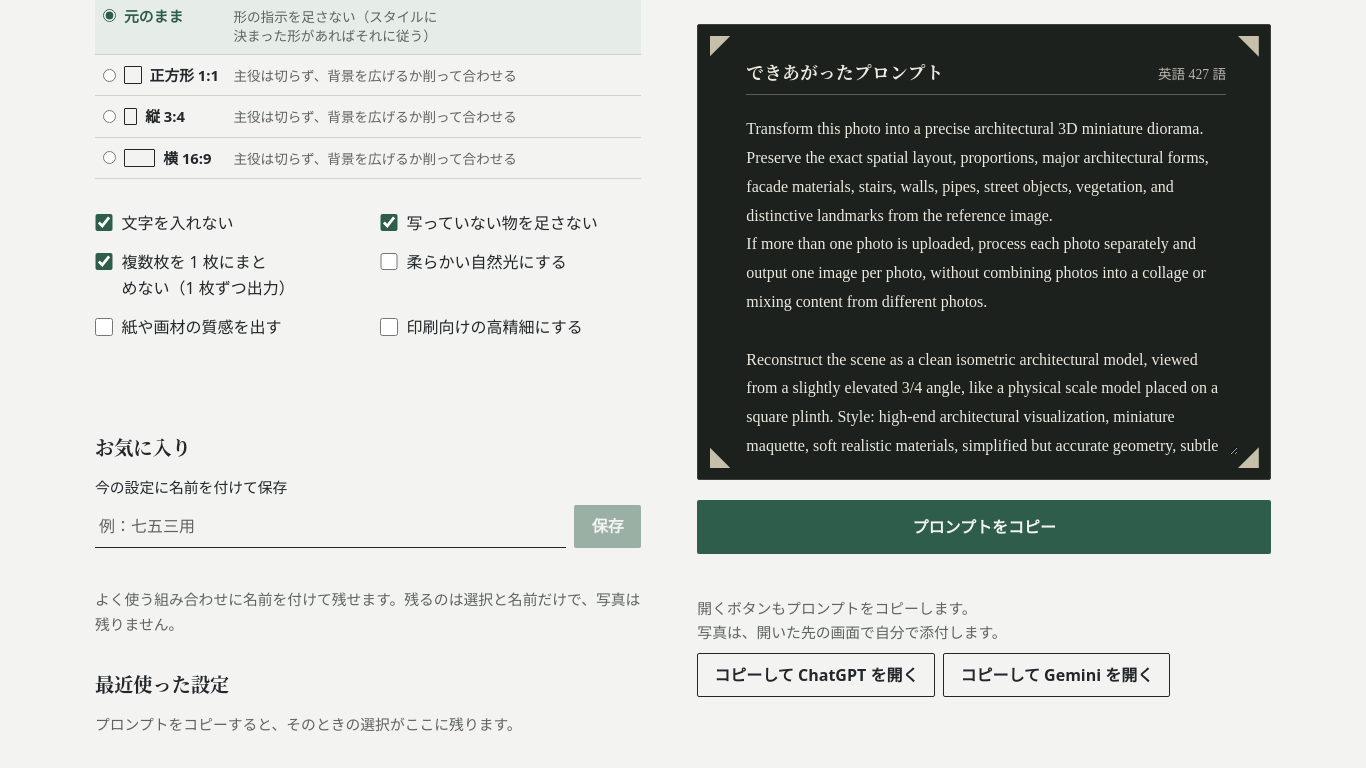
Test: お気に入り（logs/decisions.md 2026-10-03「名前を付けて保存」） › 同じ名前で保存すると、今の設定で上書きしたと知らせる
(page scrolled)
Type "いつもの" into the field labelled "今の設定に名前を付けて保存" at (331, 526), box [95,505,566,548]
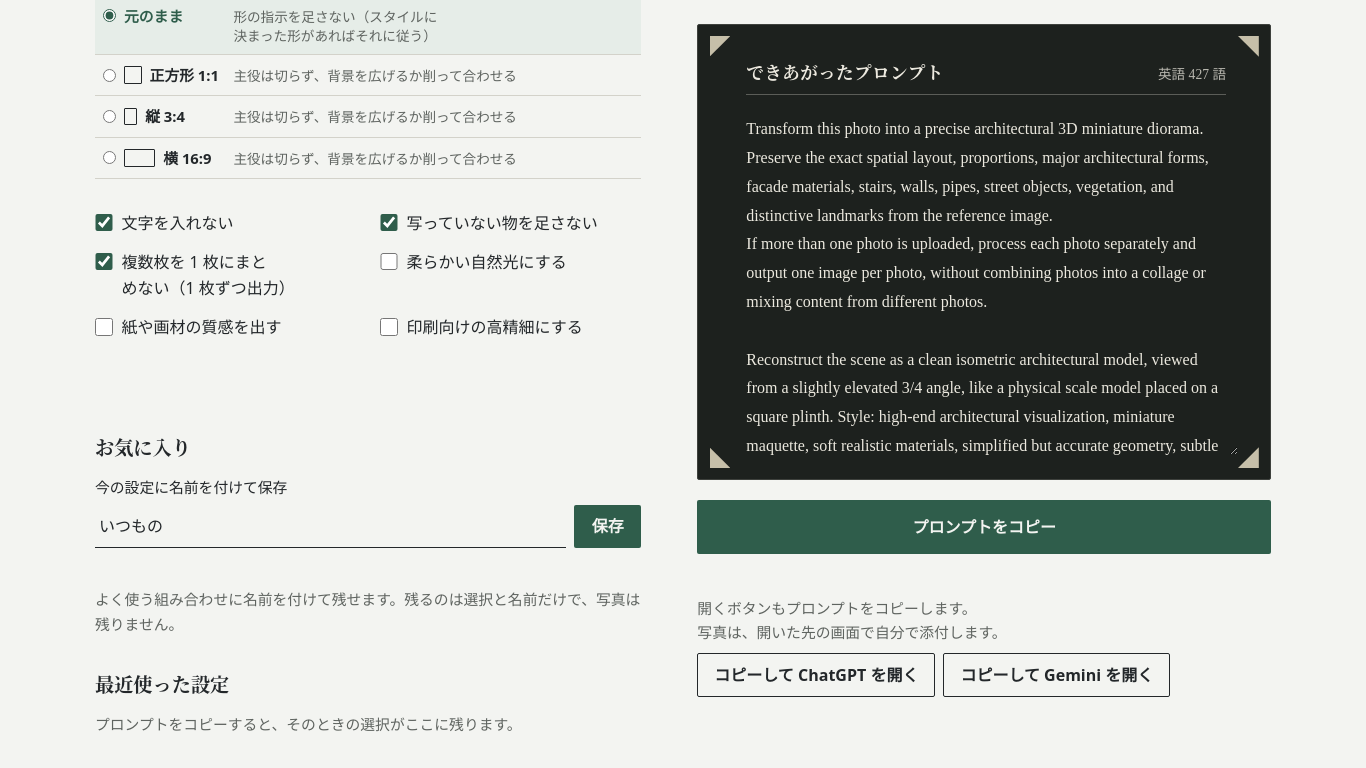
Click the button "保存" at (608, 526), box [574,505,641,548]
(page scrolled)
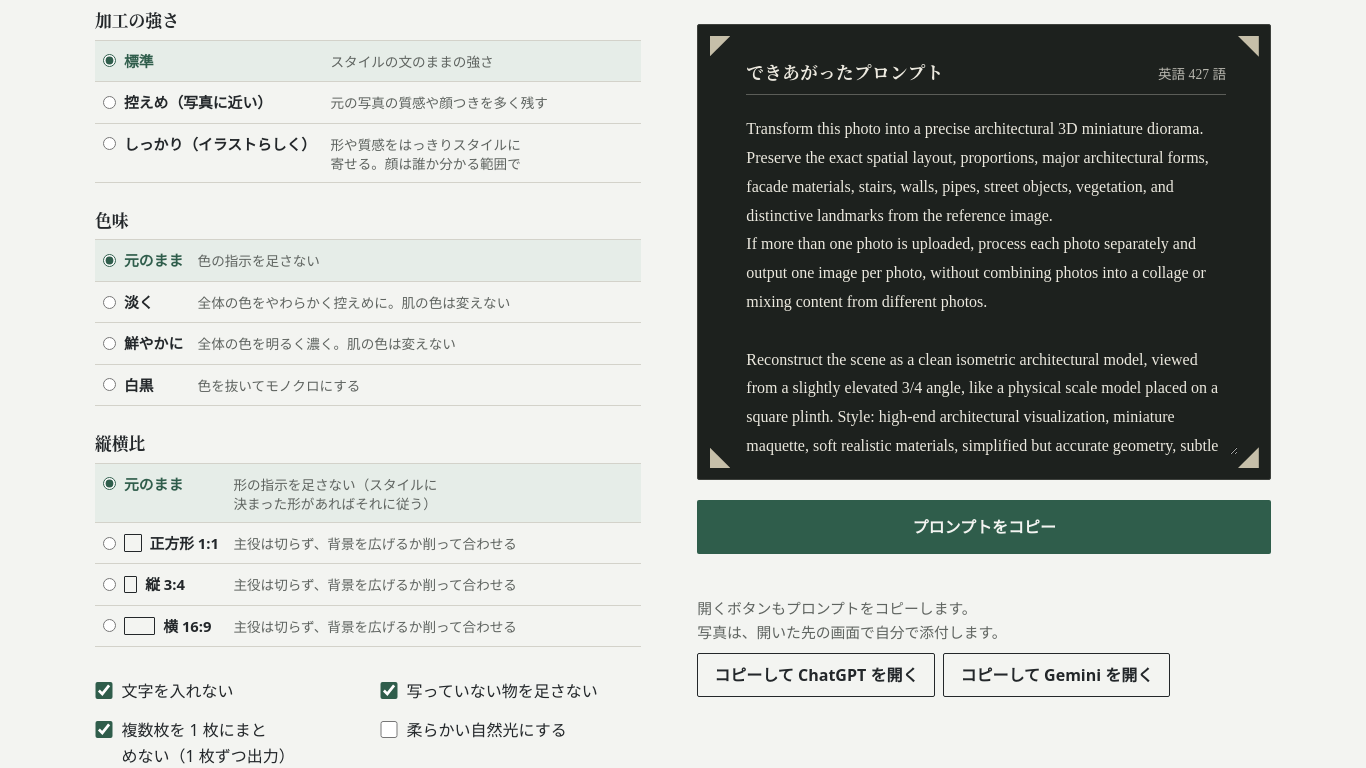
Click the radio button labelled "白黒" at (110, 385), box [103,378,116,391]
(page scrolled)
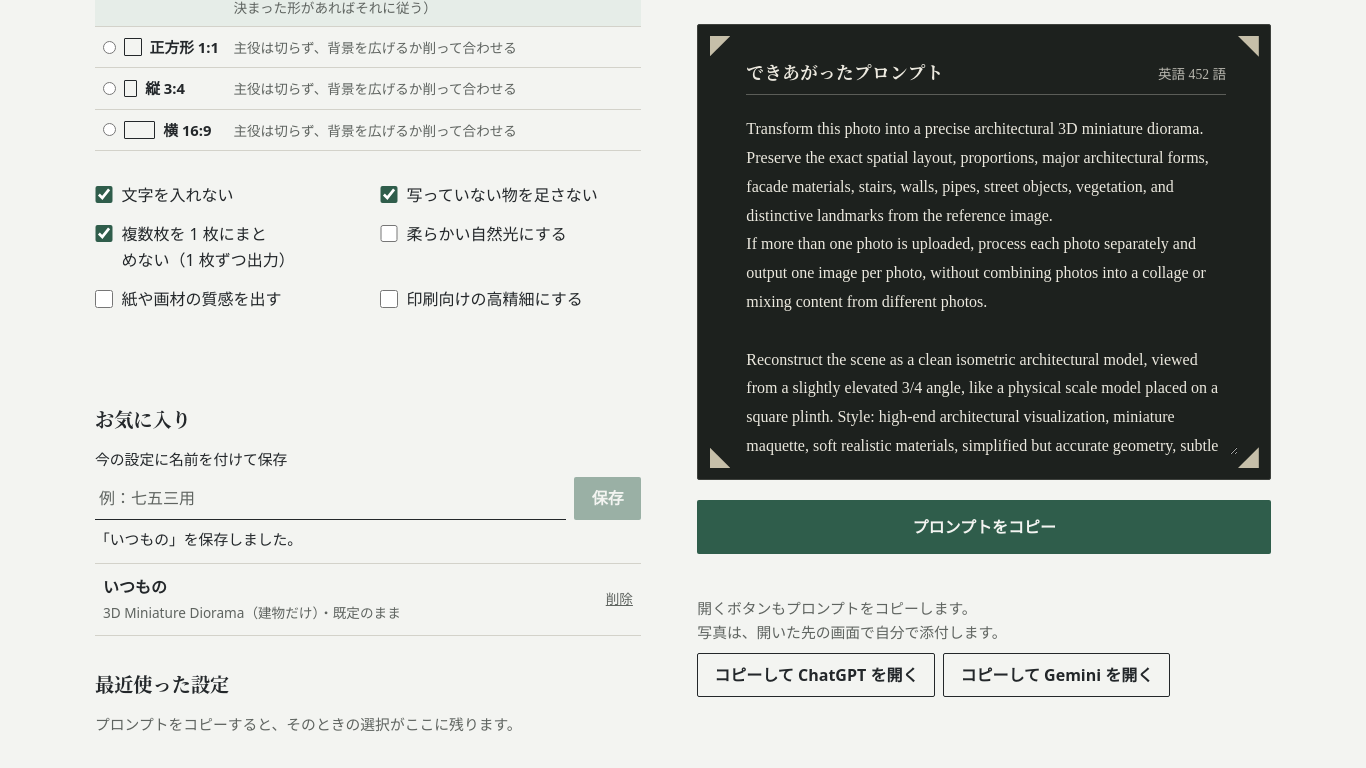
Type "いつもの" into the field labelled "今の設定に名前を付けて保存" at (331, 498), box [95,477,566,520]
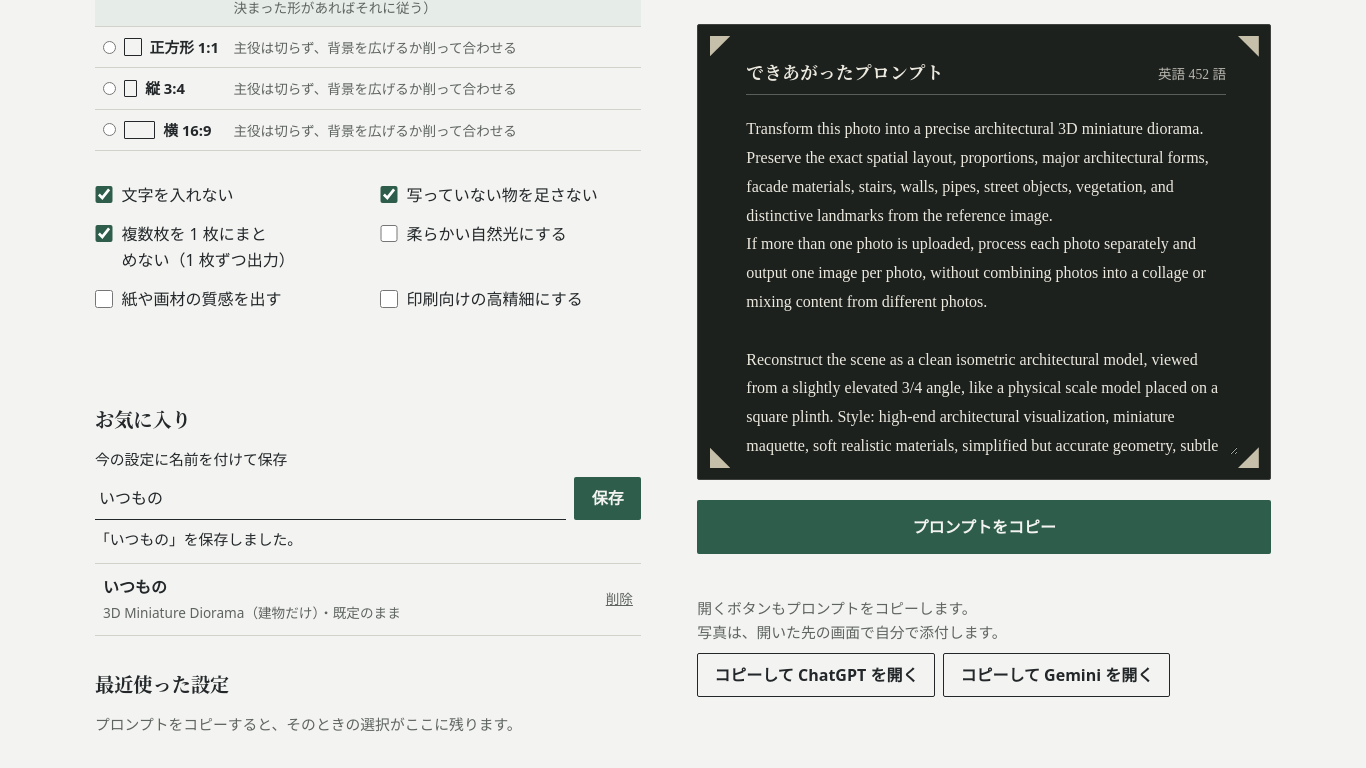
Click the button "保存" at (608, 498), box [574,477,641,520]
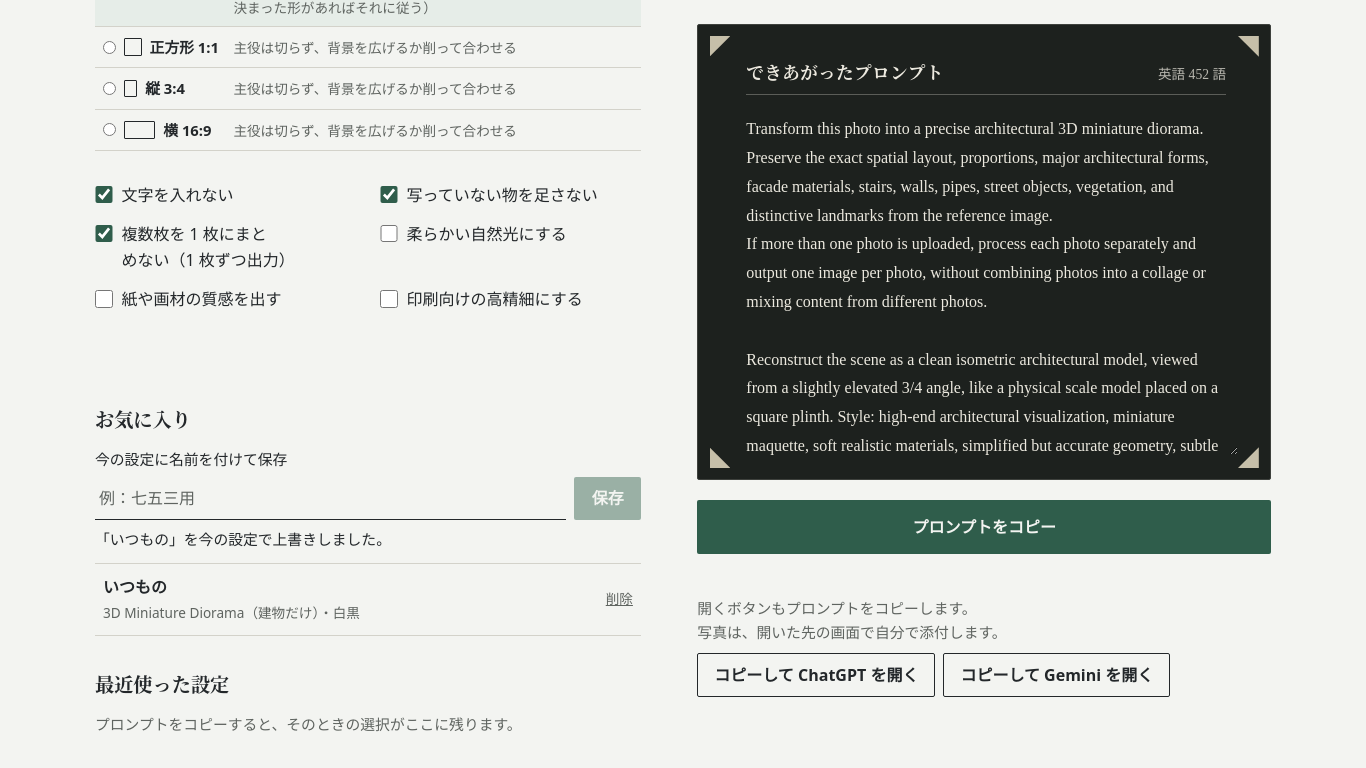
Check: the number of buttons "いつもの 3D Miniature Diorama（建物だけ）・白黒" is 1, box [95,564,591,635]
Check: the text "「いつもの」を今の設定で上書きしました。" is shown, box [95,528,391,548]
Check: the button "いつもの 3D Miniature Diorama（建物だけ）・白黒" is shown, box [95,564,591,635]
